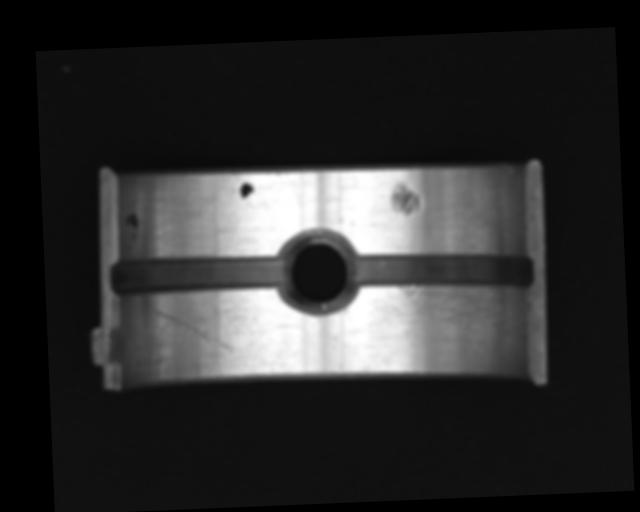blot: (124, 211, 140, 242), (238, 180, 255, 203)
bruise: (390, 182, 421, 216)
gap: (348, 247, 536, 296), (111, 253, 288, 296)
hole: (276, 228, 355, 317)
nick: (151, 305, 236, 359)
scratch: (351, 278, 521, 366)
